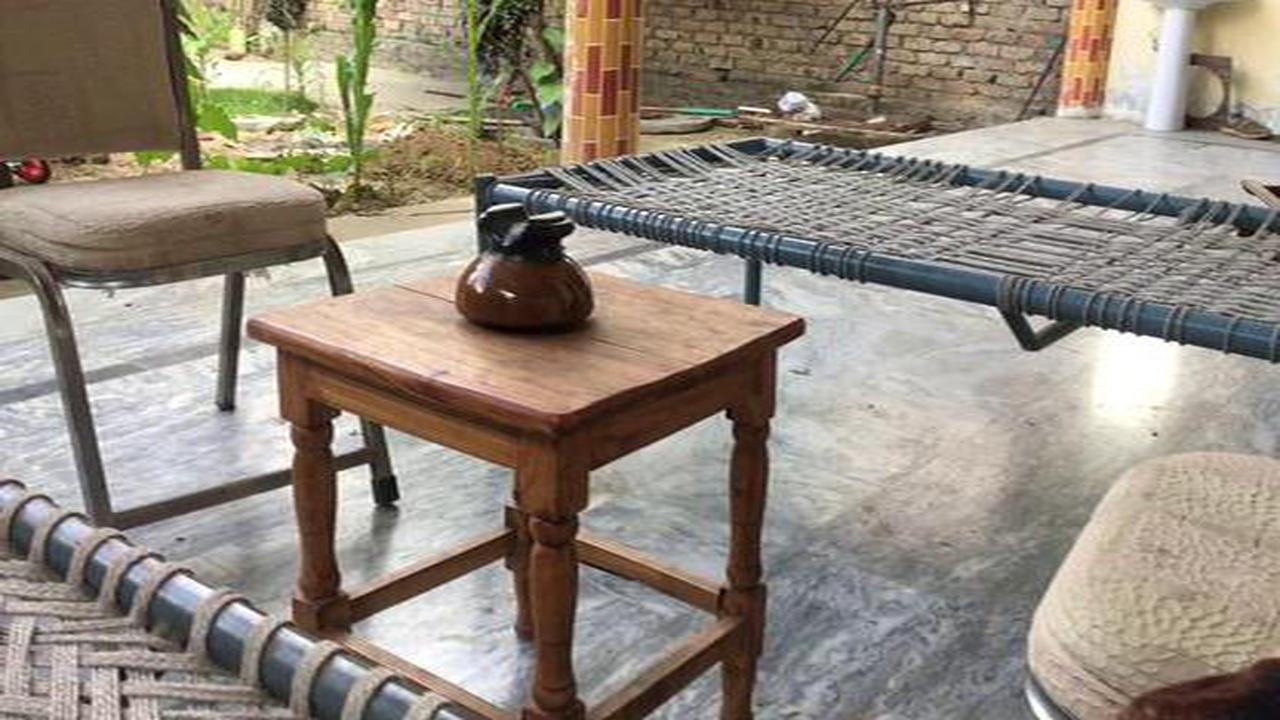insulator_pin: (437, 191, 616, 343)
